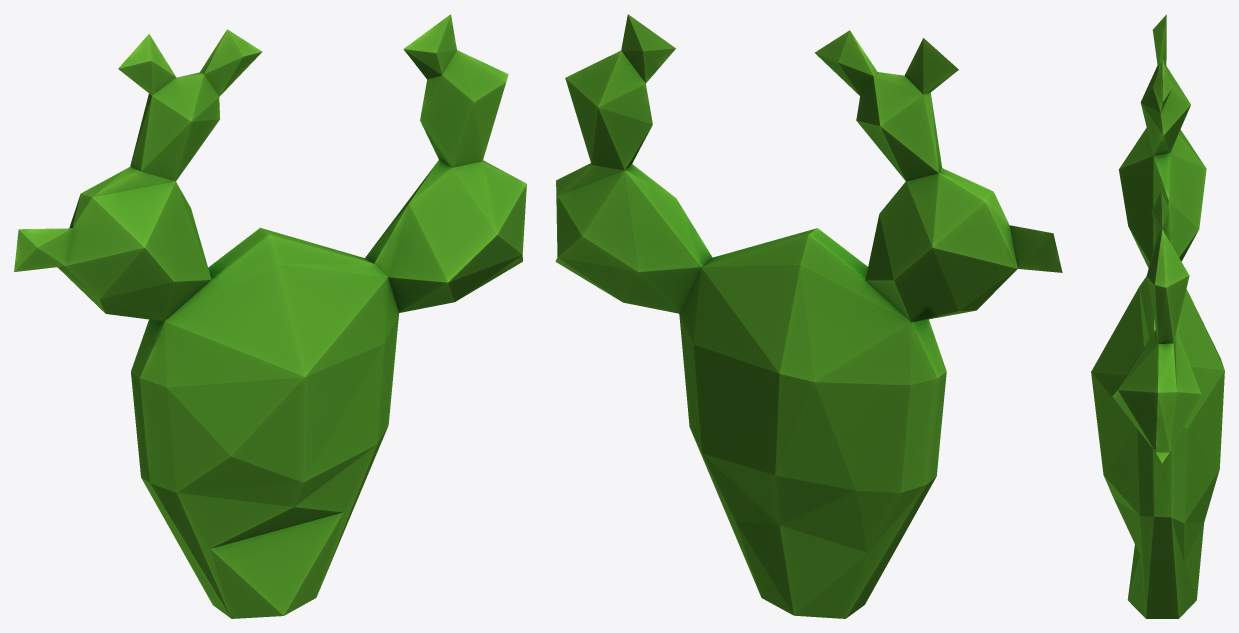
File: Cactus_4.fbx
3 renders of one model, left to right at view 1: azimuth 30°, elevation 25°; view 2: azimuth 150°, elevation 25°; view 3: azimuth 270°, elevation 25°, orthographic. The views are drawn at different scales.
Visible parts, largest first — view 1: Cactus_4; view 2: Cactus_4; view 3: Cactus_4.
Boxes of the visible parts, bbox=[...] form: Cactus_4: bbox=[14, 14, 526, 618]; Cactus_4: bbox=[555, 14, 1062, 618]; Cactus_4: bbox=[1091, 14, 1224, 618].
Size of the model in its own units: 46.3 by 51.53 by 11.66.
